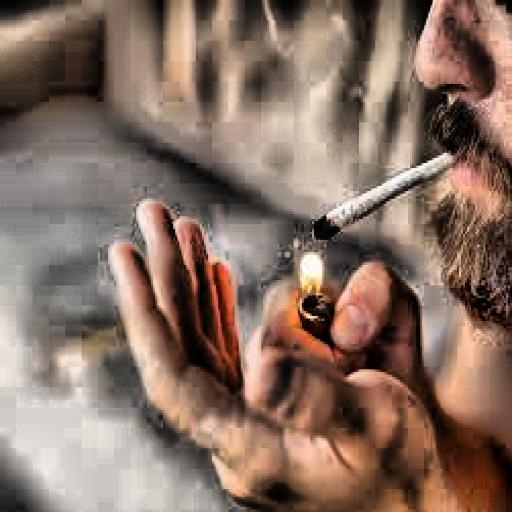fire: (286, 242, 324, 293)
